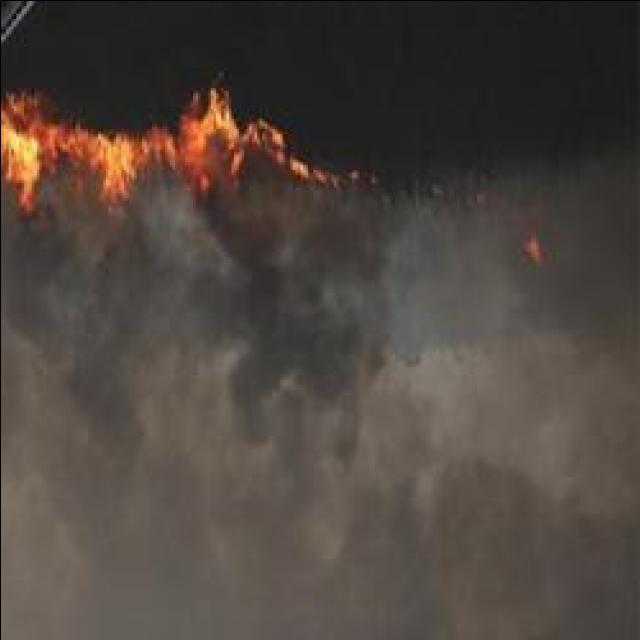fire: (26, 124, 142, 210), (1, 100, 46, 212), (198, 100, 238, 142)
smoke: (344, 405, 536, 586), (219, 294, 373, 460), (116, 196, 252, 374), (0, 231, 121, 410), (218, 198, 386, 320)
